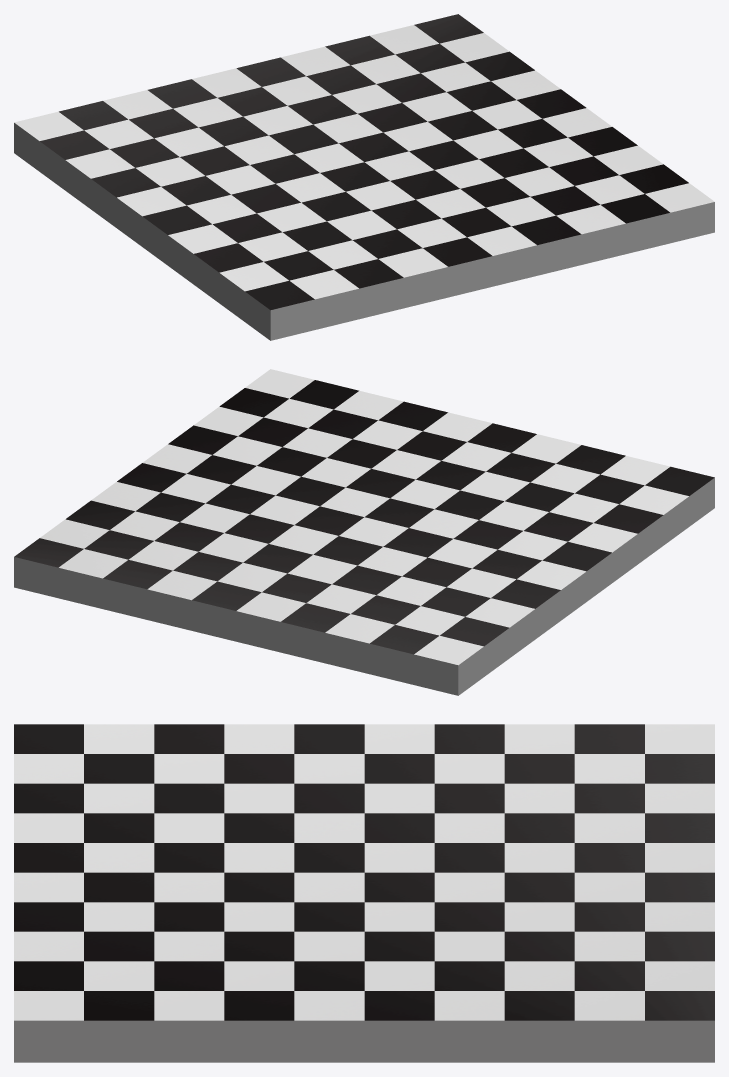
File: dodai.fbx
The picture shows the model from 3 angles, top to bottom: view 1: azimuth 30°, elevation 25°; view 2: azimuth 150°, elevation 25°; view 3: azimuth 270°, elevation 25°; orthographic projection. The views are drawn at different scales.
Visible parts, largest first — view 1: pPlane1; view 2: pPlane1; view 3: pPlane1.
Boxes of the visible parts, left/top/right/bottom form: pPlane1: left=14, top=14, right=714, bottom=340; pPlane1: left=14, top=369, right=714, bottom=695; pPlane1: left=14, top=724, right=714, bottom=1062.
Bounding box in the file's own units: 1 × 0.0659 × 1.
Materials: 1 (1 with a texture image).
